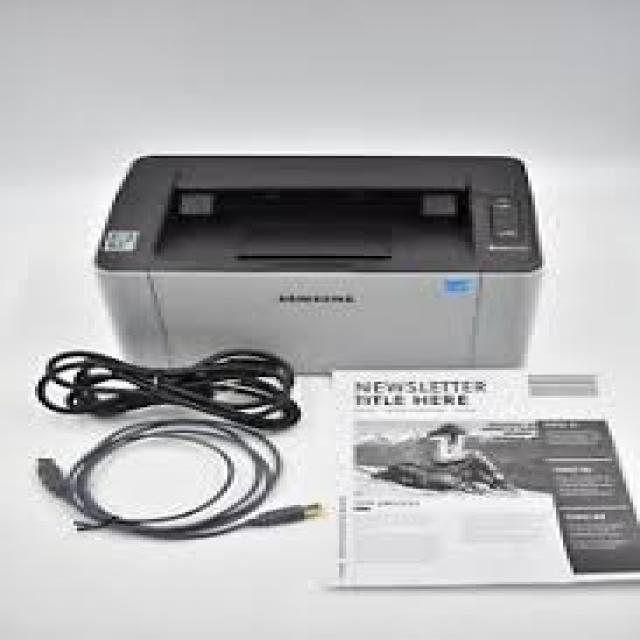printer: (87, 153, 546, 378)
